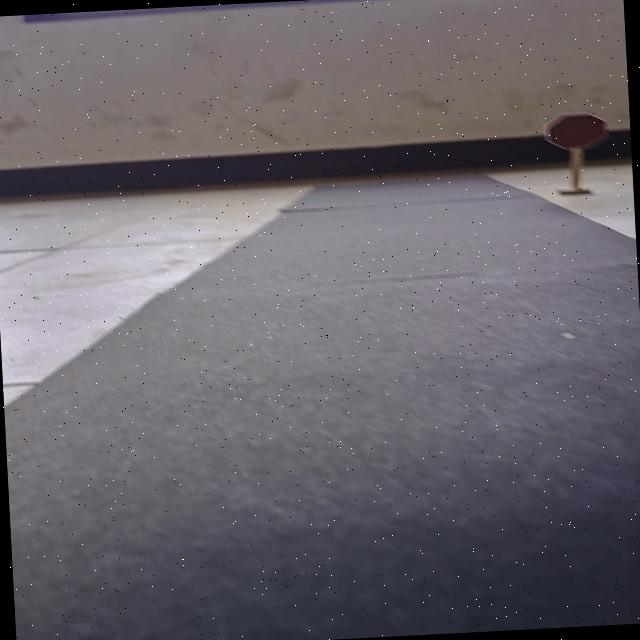Stop: (542, 110, 612, 152)
